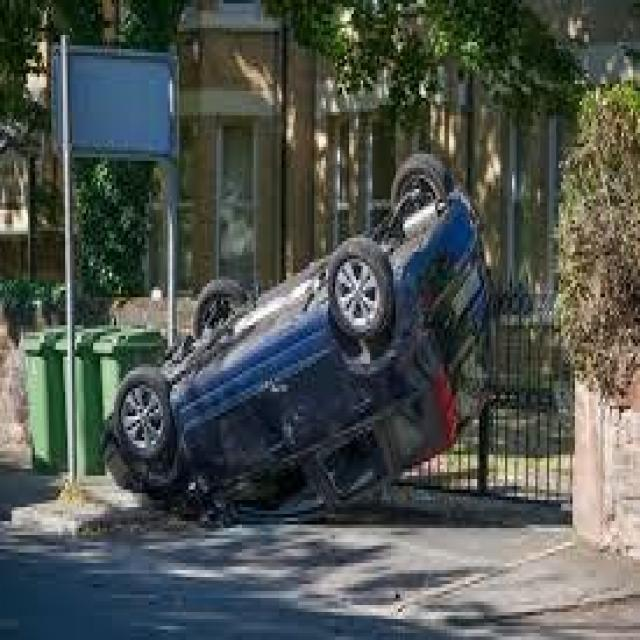accident: (99, 149, 504, 533)
